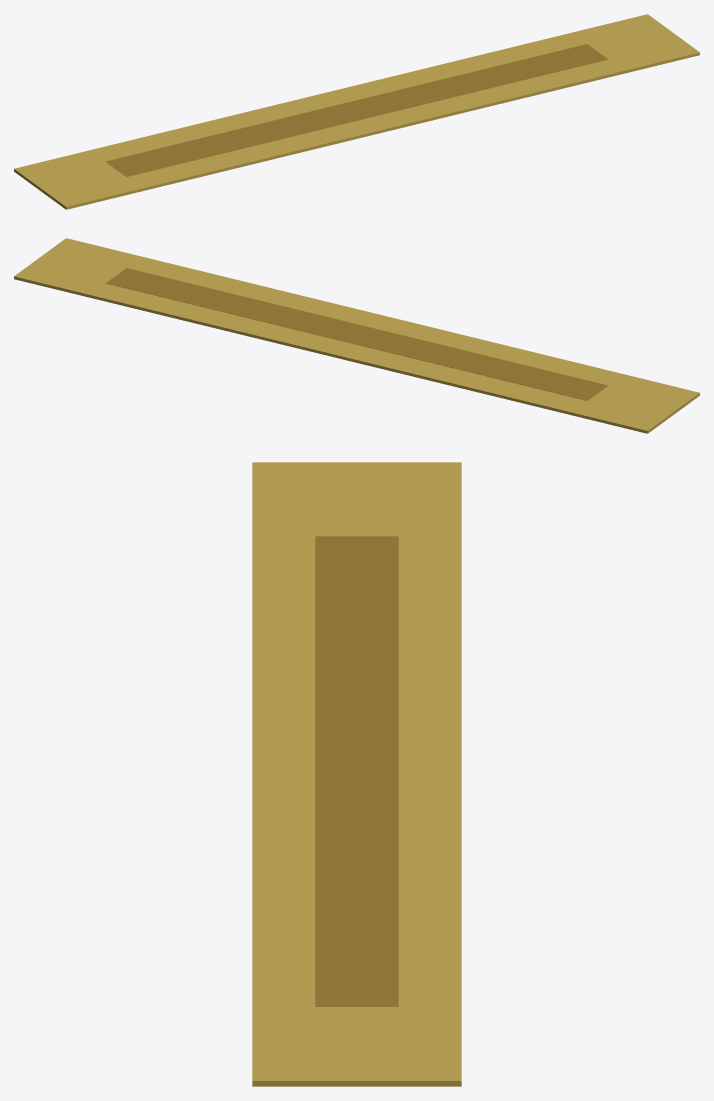
The model's file is antenna_sdr.glb.
The picture shows the model from 3 angles, top to bottom: view 1: azimuth 30°, elevation 25°; view 2: azimuth 150°, elevation 25°; view 3: azimuth 270°, elevation 25°; orthographic projection. The views are drawn at different scales.
Parts seen in each view (by area): view 1: c0, c1; view 2: c0, c1; view 3: c0, c1.
Part boxes in pixels (x1,y1,x2,y2): c0: (14, 14, 699, 209); c1: (106, 44, 607, 176); c0: (14, 238, 699, 433); c1: (106, 268, 607, 400); c0: (252, 462, 461, 1086); c1: (315, 536, 398, 1006).
Bounding box in the file's own units: 70 × 0.34 × 10.
